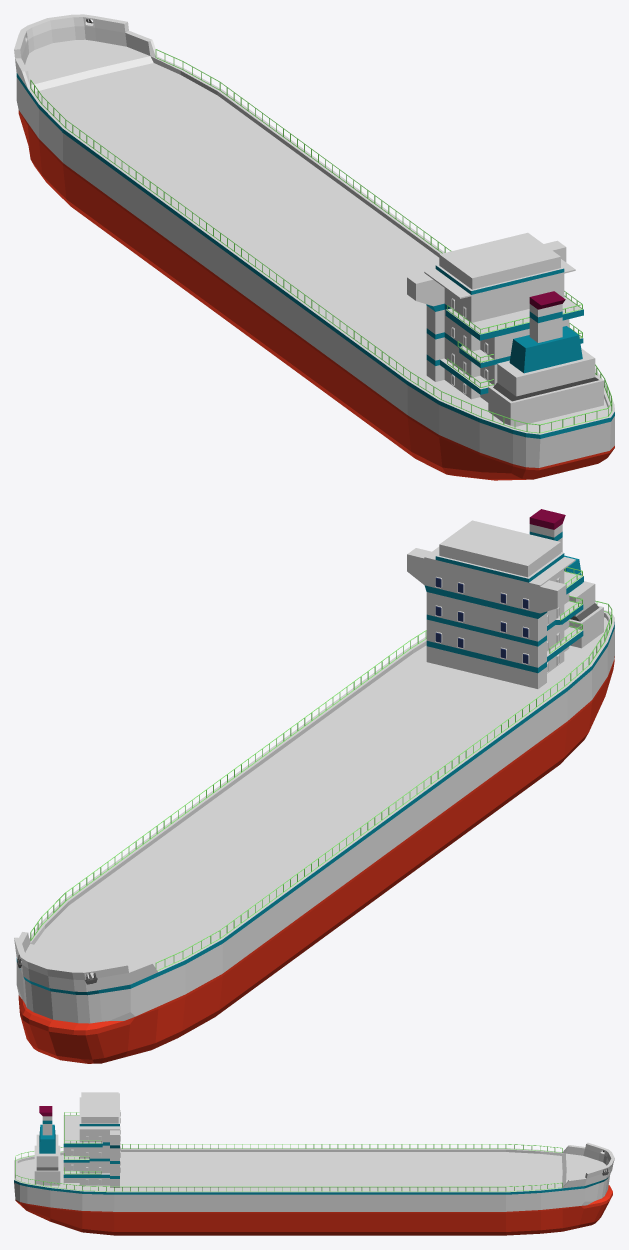
File: ContainerShip.fbx
3 renders of one model, top to bottom at view 1: azimuth 30°, elevation 25°; view 2: azimuth 150°, elevation 25°; view 3: azimuth 270°, elevation 25°, orthographic. The views are drawn at different scales.
Visible parts, largest first — view 1: ContainerShip; view 2: ContainerShip; view 3: ContainerShip.
Boxes of the visible parts, x1,y1,x2,y2 form: ContainerShip: (14, 14, 614, 480); ContainerShip: (14, 509, 614, 1063); ContainerShip: (14, 1092, 614, 1235).
Size of the model in its own units: 371 by 440 by 2128.
